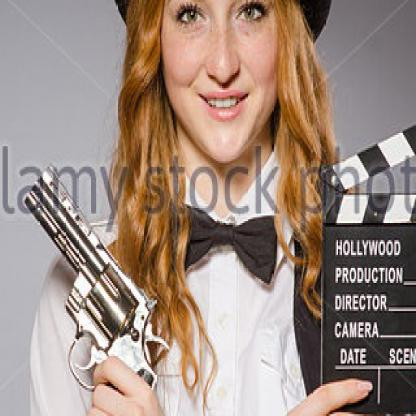gun: (16, 167, 167, 414)
